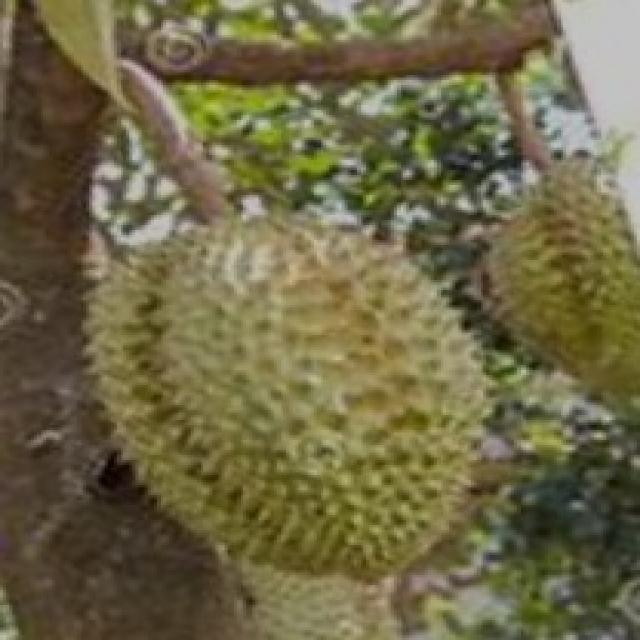fruit: (25, 215, 388, 627)
